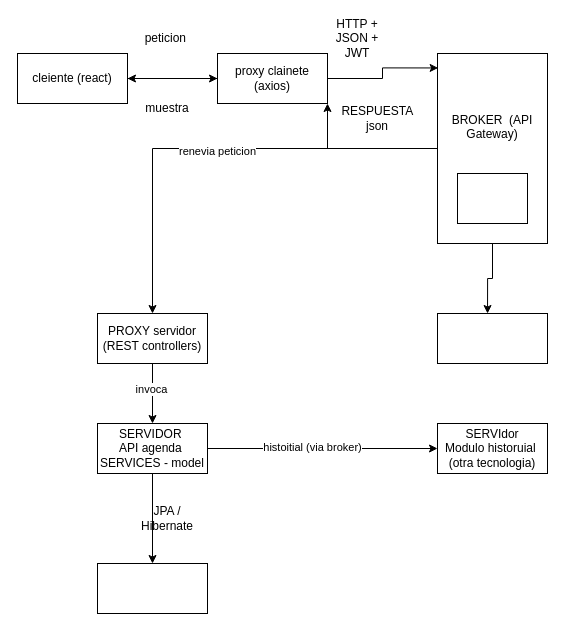
Some shapes in this 565 by 631 pixel diagram are drawn without their labels. Here are the shapes that lost their labels. From the top down, the centre of each, then its label:
[492,198]: registro de servicios
[492,338]: PROXY servidor (endpoint modulo)
[152,588]: MySQL
